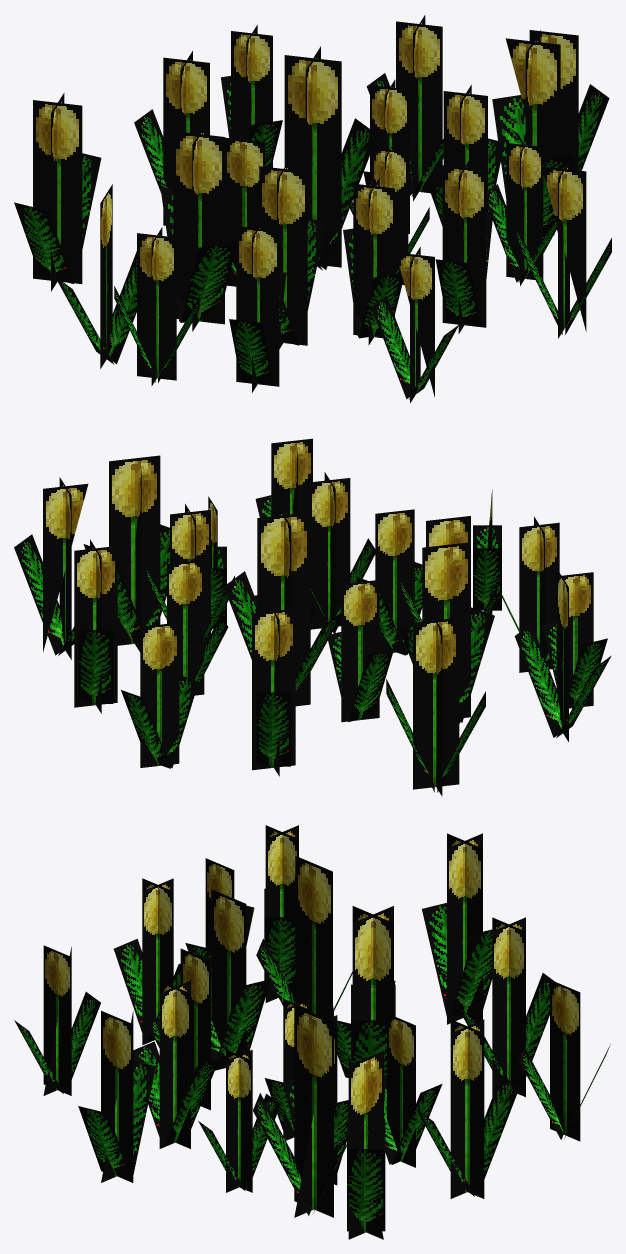
Rendered from Flower5.obj.
The picture shows the model from 3 angles, top to bottom: view 1: azimuth 30°, elevation 25°; view 2: azimuth 150°, elevation 25°; view 3: azimuth 270°, elevation 25°; orthographic projection. The views are drawn at different scales.
Size of the model in its own units: 14.69 by 5 by 13.31.
1 material, 1 textured.
